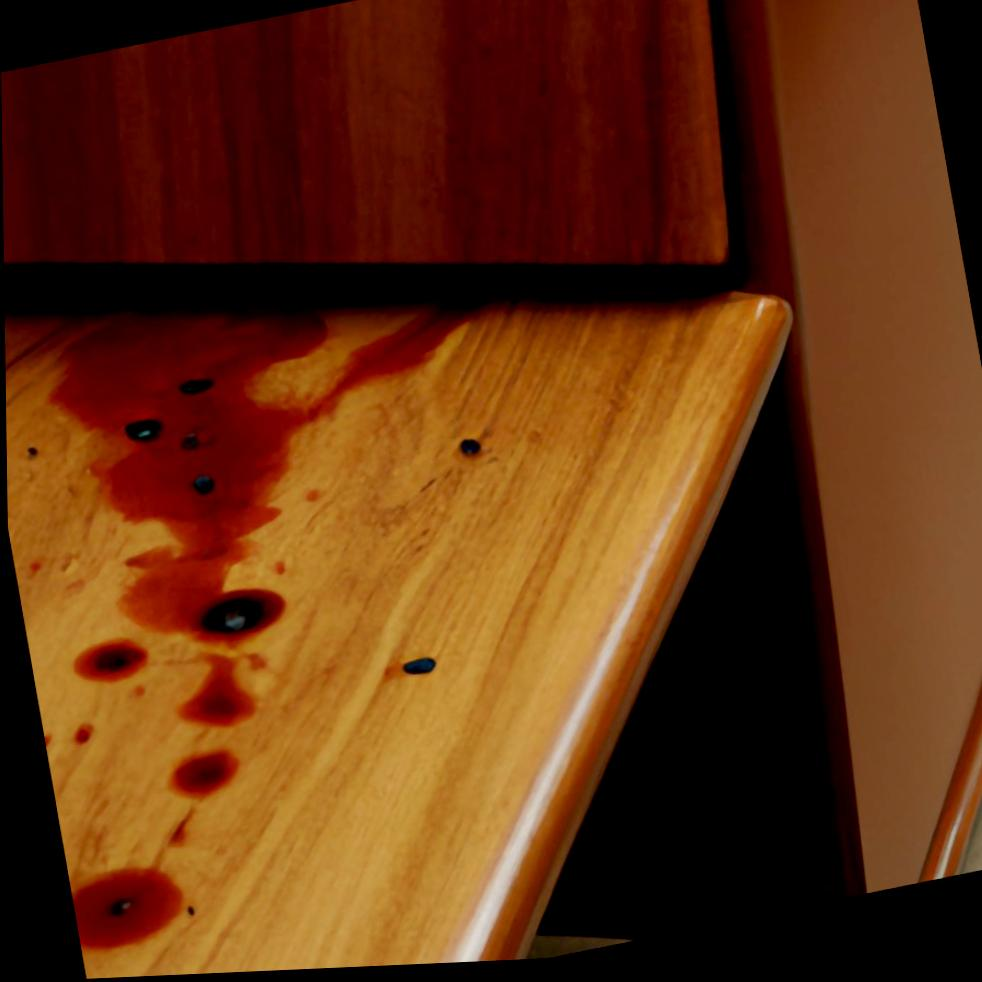Fire: (42, 309, 482, 652), (69, 867, 181, 950), (159, 650, 267, 729), (164, 749, 238, 799), (72, 721, 92, 744), (41, 734, 51, 746)
